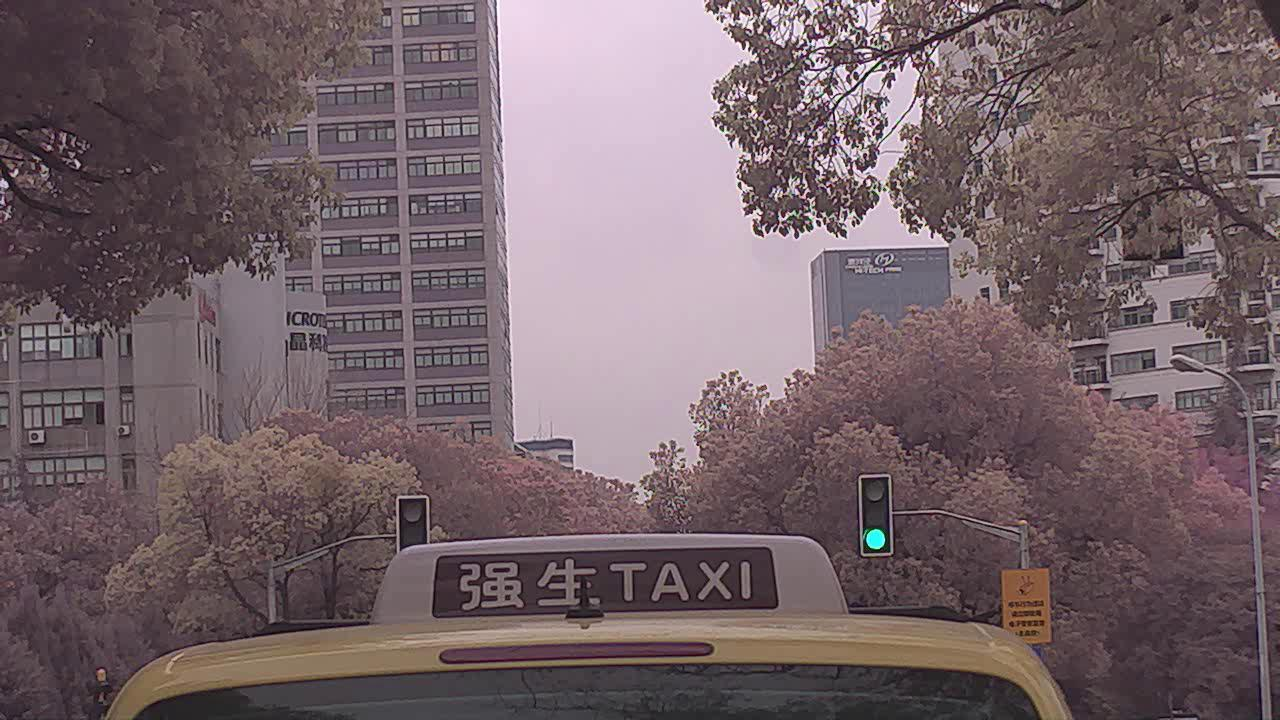traffic_light: (856, 475, 893, 557)
